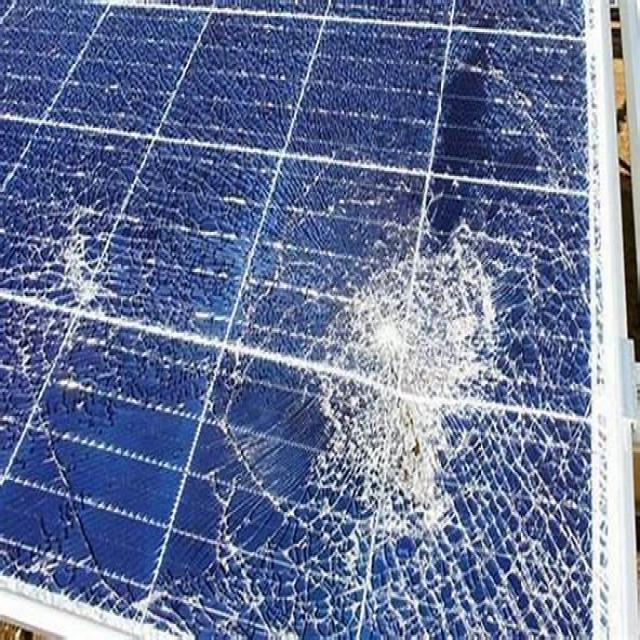cracked: (0, 1, 618, 640)
